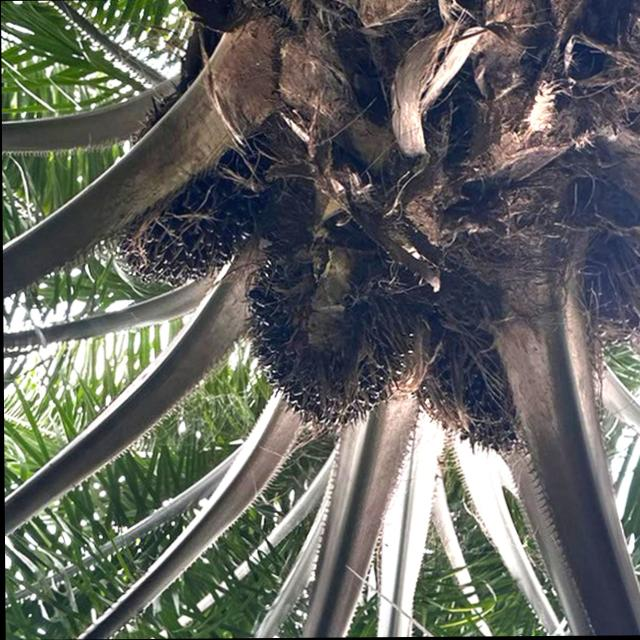unripe: (237, 239, 425, 433)
